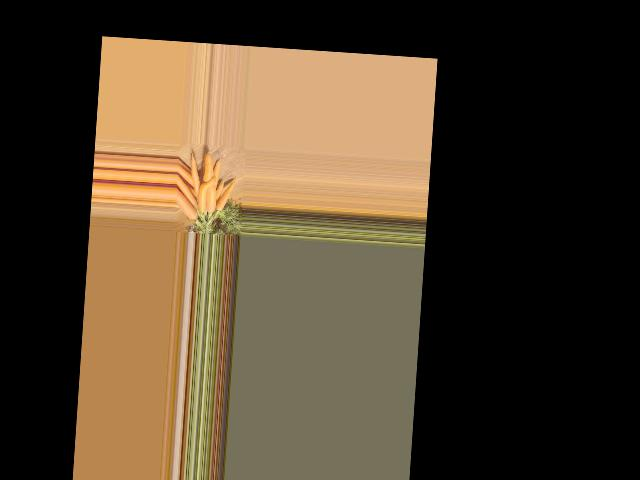carrot: (174, 190, 199, 222)
